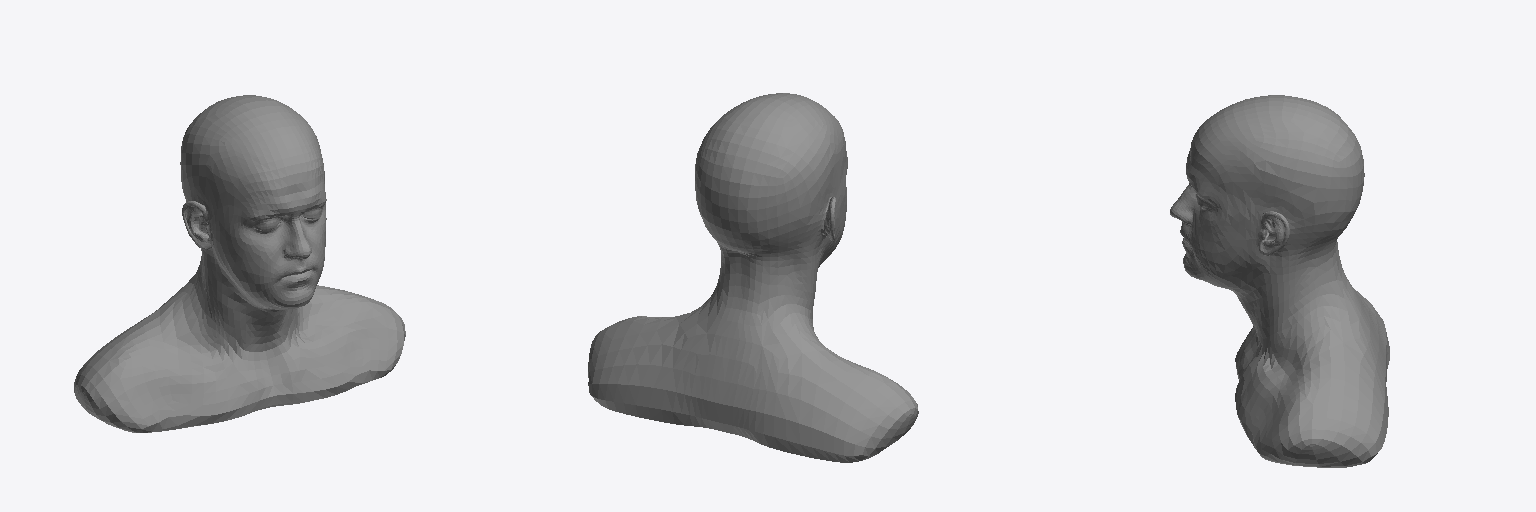
File: head.OBJ
3 views of the same model, side by side, from view 1: azimuth 30°, elevation 25°; view 2: azimuth 150°, elevation 25°; view 3: azimuth 270°, elevation 25° (orthographic).
Parts seen in each view (by area): view 1: g g Group2, g g Group19, g g Group14, g g Group4, g g Group5; view 2: g g Group2, g g Group4, g g Group19, g g Group5; view 3: g g Group2, g g Group19, g g Group14, g g Group4, g g Group5.
Boxes of the visible parts, x1=… form: g g Group2: x1=76, y1=95, x2=403, y2=432; g g Group19: x1=205, y1=144, x2=326, y2=277; g g Group14: x1=214, y1=236, x2=325, y2=309; g g Group4: x1=74, y1=315, x2=405, y2=432; g g Group5: x1=182, y1=194, x2=213, y2=249; g g Group2: x1=588, y1=93, x2=914, y2=455; g g Group4: x1=588, y1=331, x2=918, y2=462; g g Group19: x1=829, y1=112, x2=847, y2=218; g g Group5: x1=817, y1=187, x2=835, y2=240; g g Group2: x1=1210, y1=95, x2=1389, y2=459; g g Group19: x1=1170, y1=116, x2=1266, y2=244; g g Group14: x1=1182, y1=226, x2=1264, y2=288; g g Group4: x1=1265, y1=429, x2=1377, y2=467; g g Group5: x1=1254, y1=203, x2=1296, y2=255.
Size of the model in its own units: 0.4533 by 0.4211 by 0.2746.